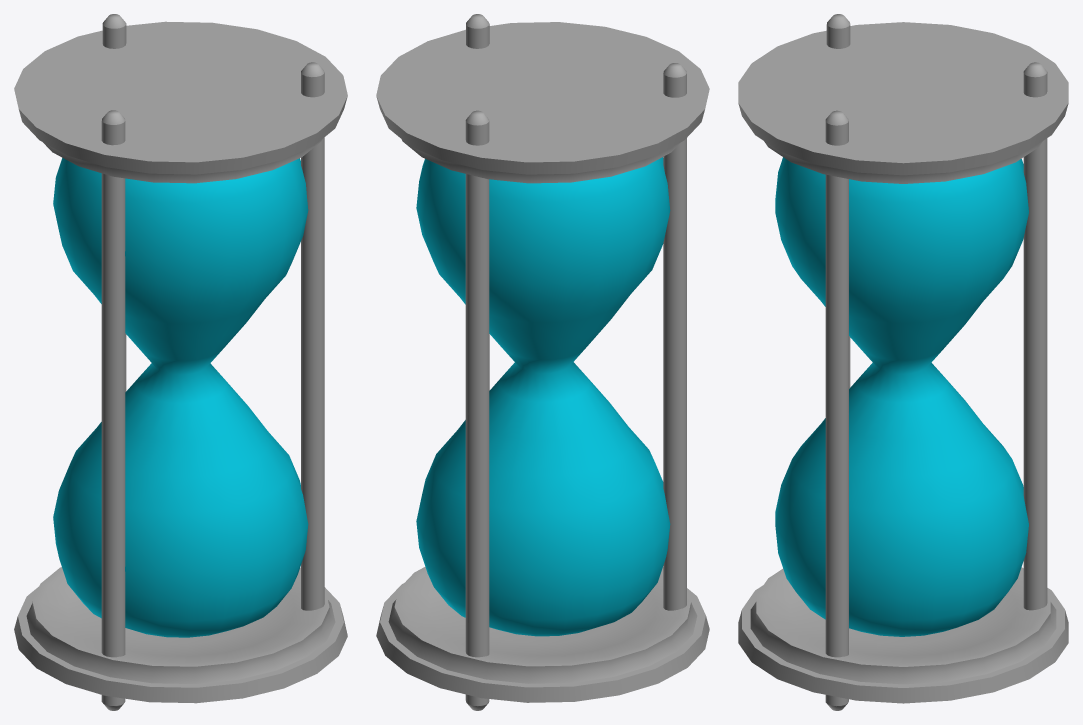
The model's file is Hourglass.FBX.
The picture shows the model from 3 angles, left to right: view 1: azimuth 30°, elevation 25°; view 2: azimuth 150°, elevation 25°; view 3: azimuth 270°, elevation 25°; orthographic projection.
Visible parts, largest first — view 1: Hourglass_body, Hourglass_glass; view 2: Hourglass_body, Hourglass_glass; view 3: Hourglass_body, Hourglass_glass.
Part boxes in pixels (box(x1,y1,x2,y2)): Hourglass_body: box(14, 14, 347, 710); Hourglass_glass: box(53, 158, 308, 637); Hourglass_body: box(376, 14, 709, 710); Hourglass_glass: box(416, 157, 670, 636); Hourglass_body: box(738, 14, 1068, 710); Hourglass_glass: box(775, 157, 1028, 636).
Bounding box in the file's own units: 25.99 × 51.11 × 25.72.
